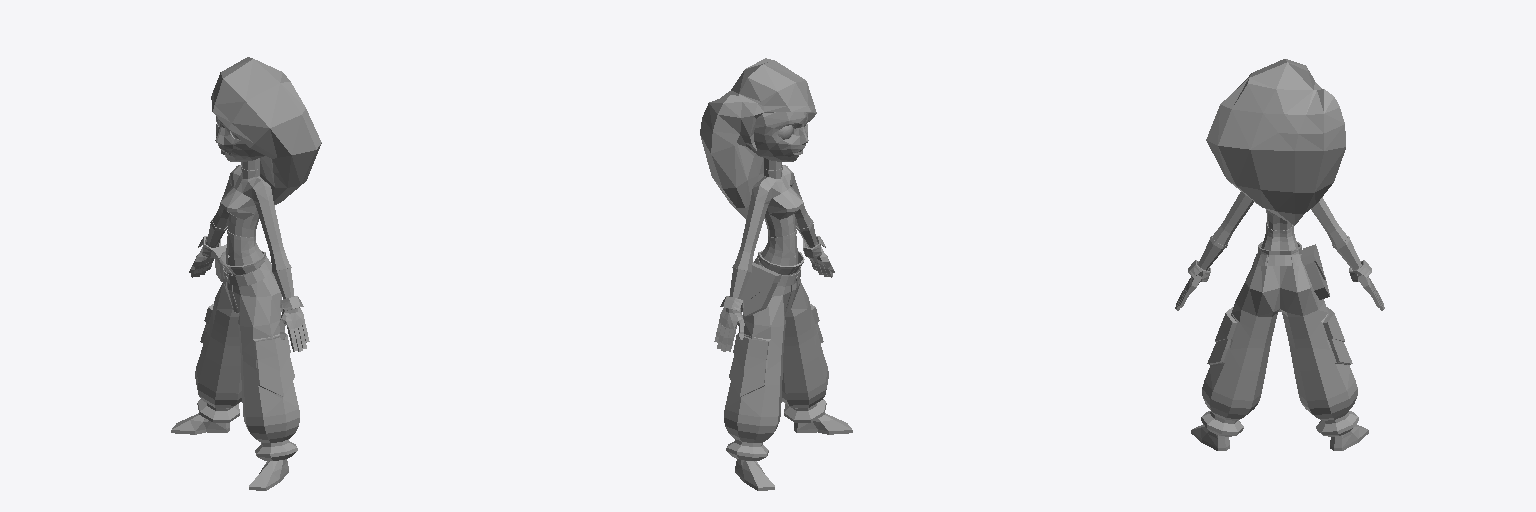
Rendered from KimPossible.obj.
The picture shows the model from 3 angles: view 1: azimuth 30°, elevation 25°; view 2: azimuth 150°, elevation 25°; view 3: azimuth 270°, elevation 25°; orthographic projection.
Parts seen in each view (by area): view 1: Body3, Hair3, Hands, Left_Fo1, Right_F1, Belt; view 2: Body3, Hair3, Hands, Pouch, Right_F1, Left_Fo1; view 3: Body3, Hair3, Hands, Pouch, Left_Fo1, Right_F1.
Part boxes in pixels (x1,y1,x2,y2): Body3: (195,116,299,460); Hair3: (211,57,321,204); Hands: (189,236,309,351); Left_Fo1: (249,459,288,490); Right_F1: (171,413,229,434); Belt: (223,257,271,286); Body3: (724,112,828,460); Hair3: (700,58,816,218); Hands: (714,236,834,351); Pouch: (741,262,781,316); Right_F1: (735,459,774,490); Left_Fo1: (794,413,852,434); Body3: (1198,192,1361,436); Hair3: (1206,59,1345,225); Hands: (1175,260,1384,310); Pouch: (1301,244,1329,299); Left_Fo1: (1191,424,1229,450); Right_F1: (1330,424,1368,450).
Size of the model in its own units: 2.26 by 9.12 by 4.45.